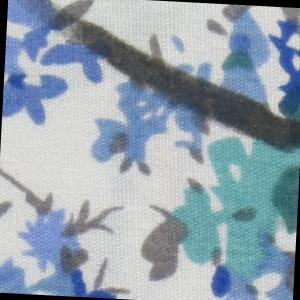Stain: (7, 1, 300, 162)
